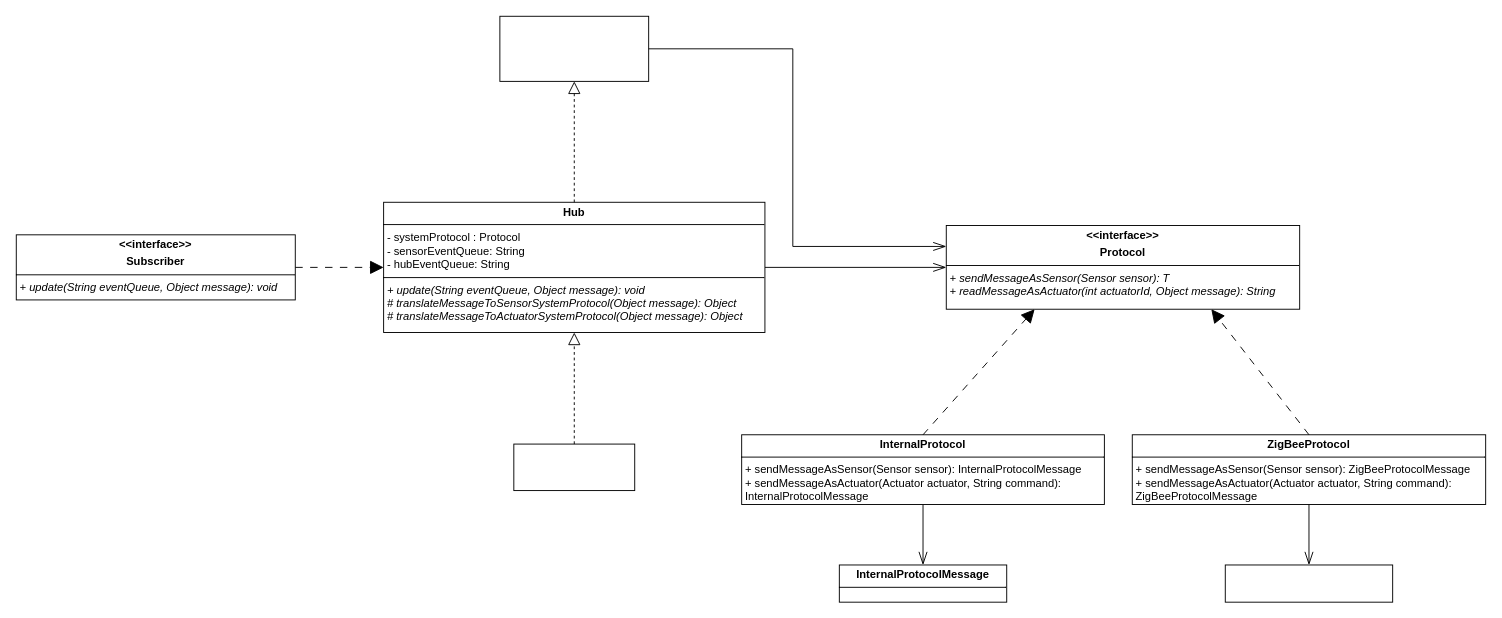
This 1502x618 diagram has some shape labels left out. Each missing label, with the centre of its shape:
Device - id : int - protocol: Protocol: (x=574, y=48)
ZigBeeHub: (x=574, y=467)
ZigBeeProtocolMessage: (x=1308, y=583)
